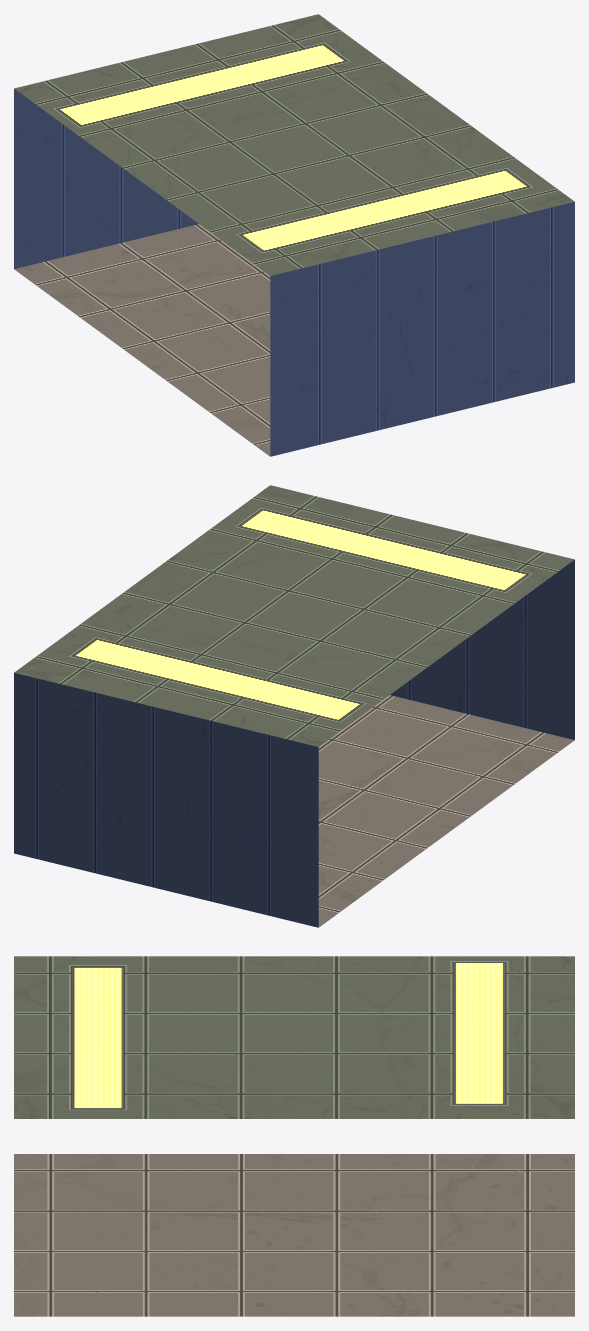
File: Paredes Azuis.glb
The picture shows the model from 3 angles, top to bottom: view 1: azimuth 30°, elevation 25°; view 2: azimuth 150°, elevation 25°; view 3: azimuth 270°, elevation 25°; orthographic projection. The views are drawn at different scales.
Parts seen in each view (by area): view 1: Paredes Azuis; view 2: Paredes Azuis; view 3: Paredes Azuis.
Boxes of the visible parts, x1,y1,x2,y2 form: Paredes Azuis: (14,14,574,456); Paredes Azuis: (14,485,574,927); Paredes Azuis: (14,956,574,1316).
Size of the model in its own units: 6 by 3.4 by 8.74.
1 material, 1 textured.
